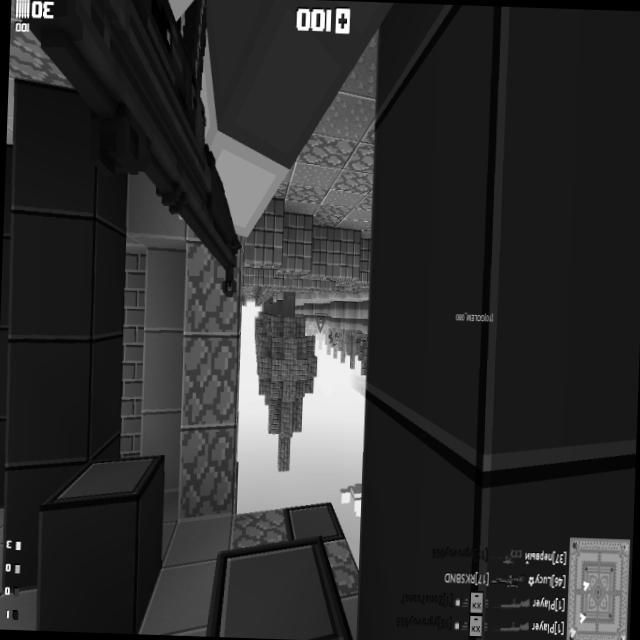enemy: (331, 327, 338, 346)
